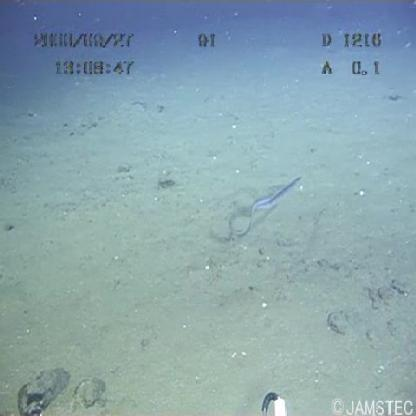Bio: (225, 170, 305, 247)
